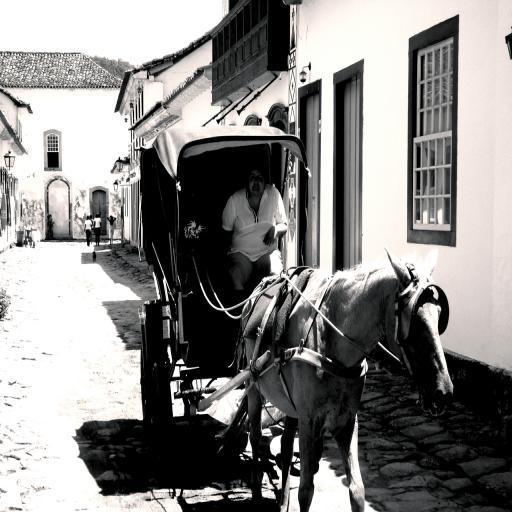horse: (214, 250, 454, 512)
